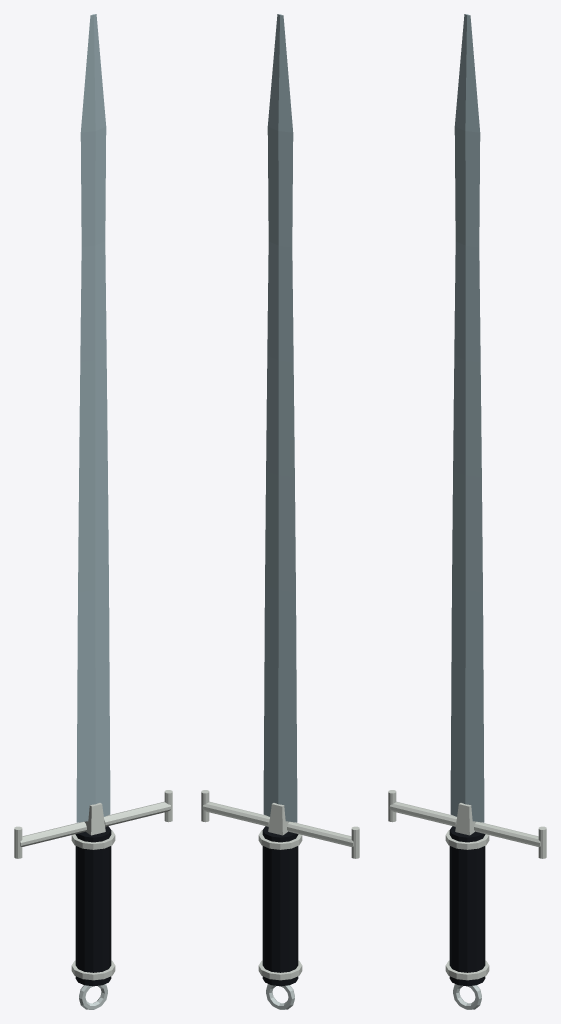
Rendered from argyra.glb.
3 renders of one model, left to right at view 1: azimuth 30°, elevation 25°; view 2: azimuth 150°, elevation 25°; view 3: azimuth 330°, elevation 25°, orthographic.
Parts seen in each view (by area): view 1: Blade, Grip, GuardArm01, GuardArm00, Guard, Pommel, GripCollar01, GripCollar00; view 2: Blade, Grip, GuardArm01, GuardArm00, Guard, Pommel, GripCollar01, GripCollar00; view 3: Blade, Grip, GuardArm00, GuardArm01, Guard, Pommel, GripCollar01, GripCollar00.
Boxes of the visible parts, left/top/right/bottom form: Blade: left=76, top=14, right=110, bottom=822; Grip: left=75, top=826, right=111, bottom=986; GuardArm01: left=20, top=821, right=86, bottom=846; GuardArm00: left=104, top=801, right=171, bottom=826; Guard: left=84, top=803, right=105, bottom=835; Pommel: left=79, top=984, right=107, bottom=1009; GripCollar01: left=71, top=960, right=115, bottom=980; GripCollar00: left=71, top=830, right=115, bottom=849; Blade: left=263, top=14, right=297, bottom=822; Grip: left=262, top=826, right=298, bottom=986; GuardArm01: left=287, top=821, right=353, bottom=846; GuardArm00: left=202, top=801, right=269, bottom=826; Guard: left=268, top=803, right=289, bottom=835; Pommel: left=266, top=984, right=294, bottom=1009; GripCollar01: left=258, top=960, right=302, bottom=980; GripCollar00: left=258, top=830, right=302, bottom=849; Blade: left=450, top=14, right=484, bottom=822; Grip: left=449, top=826, right=485, bottom=986; GuardArm00: left=474, top=821, right=540, bottom=846; GuardArm01: left=389, top=801, right=456, bottom=826; Guard: left=455, top=803, right=476, bottom=835; Pommel: left=453, top=984, right=481, bottom=1009; GripCollar01: left=445, top=960, right=489, bottom=980; GripCollar00: left=445, top=830, right=489, bottom=849.
Bounding box in the file's own units: 0.1716 × 1.04 × 0.0413.
